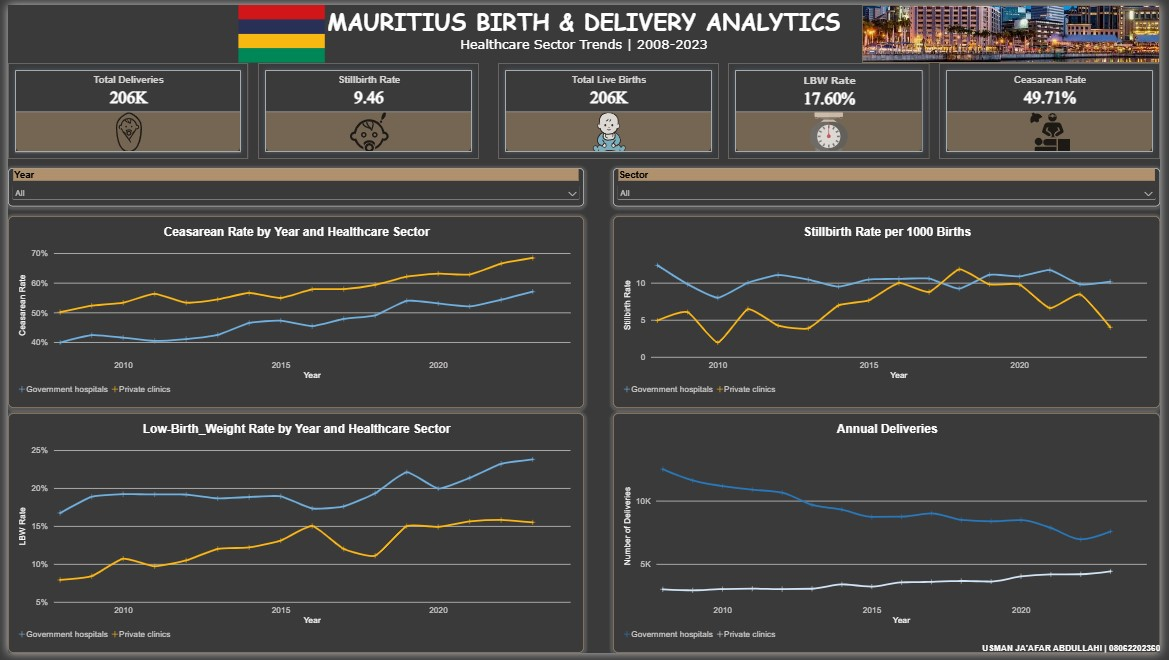

Layout of this report page (visuals, bound fields, positions):
{"tool":"powerbi","page":{"name":"Page 1","canvas":[1920,1080],"ordinal":0},"visuals":[{"type":"cardVisual","fields":{"Data":["mauritius_birth_statistics_analysis.Total Deliveries"]},"box":[0,96,400,160],"z":0},{"type":"cardVisual","fields":{"Data":["mauritius_birth_statistics_analysis.Total Live Births"]},"box":[816,96,368,160],"z":1000},{"type":"cardVisual","fields":{"Data":["mauritius_birth_statistics_analysis.Ceasarean Rate"]},"box":[1552,96,368,160],"z":2000},{"type":"cardVisual","fields":{"Data":["mauritius_birth_statistics_analysis.LBW Rate"]},"box":[1200,96,336,160],"z":3000},{"type":"cardVisual","fields":{"Data":["mauritius_birth_statistics_analysis.Stillbirth Rate"]},"box":[416,96,368,160],"z":4000},{"type":"slicer","fields":{"Values":["mauritius_birth_statistics_analysis.Year"]},"box":[0,272,960,64],"z":5000},{"type":"lineChart","title":"Annual Deliveries","fields":{"Category":["mauritius_birth_statistics_analysis.Year"],"Series":["mauritius_birth_statistics_analysis.Sector"],"Y":["Sum(mauritius_birth_statistics_analysis.Deliveries)"]},"box":[1008,680,912,400],"z":6000},{"type":"lineChart","title":"Ceasarean Rate by Year and Healthcare Sector","fields":{"Category":["mauritius_birth_statistics_analysis.Year"],"Series":["mauritius_birth_statistics_analysis.Sector"],"Y":["mauritius_birth_statistics_analysis.Ceasarean Rate"]},"box":[0,352,960,320],"z":7000},{"type":"lineChart","title":"Low-Birth_Weight Rate by Year and Healthcare Sector","fields":{"Category":["mauritius_birth_statistics_analysis.Year"],"Series":["mauritius_birth_statistics_analysis.Sector"],"Y":["mauritius_birth_statistics_analysis.LBW Rate"]},"box":[0,680,960,400],"z":8000},{"type":"lineChart","title":"Stillbirth Rate per 1000 Births ","fields":{"Category":["mauritius_birth_statistics_analysis.Year"],"Series":["mauritius_birth_statistics_analysis.Sector"],"Y":["mauritius_birth_statistics_analysis.Stillbirth Rate"]},"box":[1008,352,912,320],"z":9000},{"type":"slicer","fields":{"Values":["mauritius_birth_statistics_analysis.Sector"]},"box":[1008,272,912,64],"z":10000},{"type":"textbox","box":[0,0,1920,80],"z":11000},{"type":"image","box":[0,0,912,96],"z":12000},{"type":"textbox","box":[976,1064,944,16],"z":13000}]}

Visuals, with their boxes in screenshot pixels (x1, y1, x2, y2), scaled from the page's 1920x1080 canvas onto the 1169x660 screenshot:
cardVisual - mauritius_birth_statistics_analysis.Total Deliveries: <region>0, 59, 244, 156</region>
cardVisual - mauritius_birth_statistics_analysis.Total Live Births: <region>497, 59, 721, 156</region>
cardVisual - mauritius_birth_statistics_analysis.Ceasarean Rate: <region>945, 59, 1168, 156</region>
cardVisual - mauritius_birth_statistics_analysis.LBW Rate: <region>731, 59, 935, 156</region>
cardVisual - mauritius_birth_statistics_analysis.Stillbirth Rate: <region>253, 59, 477, 156</region>
slicer - mauritius_birth_statistics_analysis.Year: <region>0, 166, 584, 205</region>
"Annual Deliveries" lineChart: <region>614, 416, 1168, 659</region>
"Ceasarean Rate by Year and Healthcare Sector" lineChart: <region>0, 215, 584, 411</region>
"Low-Birth_Weight Rate by Year and Healthcare Sector" lineChart: <region>0, 416, 584, 659</region>
"Stillbirth Rate per 1000 Births " lineChart: <region>614, 215, 1168, 411</region>
slicer - mauritius_birth_statistics_analysis.Sector: <region>614, 166, 1168, 205</region>
textbox: <region>0, 0, 1168, 49</region>
image: <region>0, 0, 555, 59</region>
textbox: <region>594, 650, 1168, 659</region>
